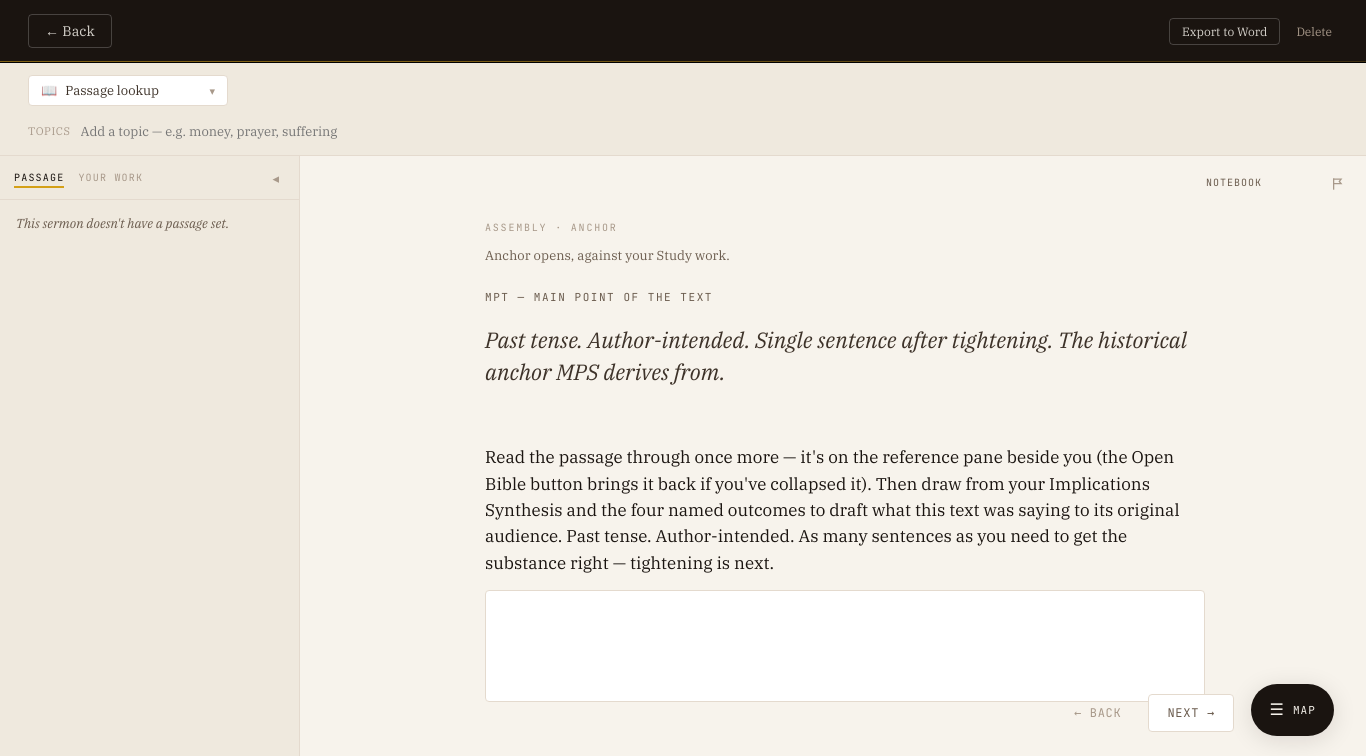
it: C3 — a failed save renders the mapped message + Retry › a disk-full save failure shows the disk-full sentence and keeps Retry
Type "an edit that fails to save" into the text box named "Read the passage through once more — it's on the reference p" at (845, 646), box [485,590,1205,702]
Wait 900 ms
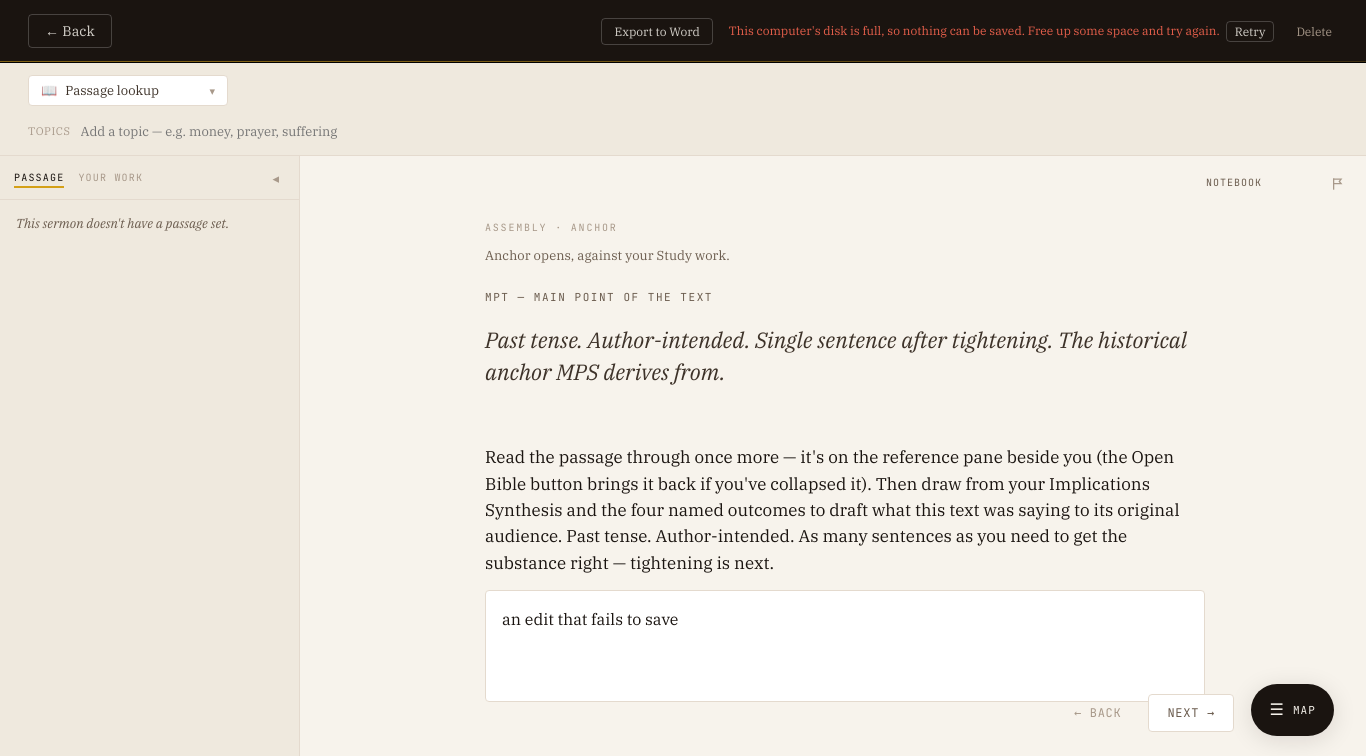
Expected: the text "This computer's disk is full" is shown, [729,23,1220,38]
Expected: the button "Retry" is shown, [1226,20,1274,42]
